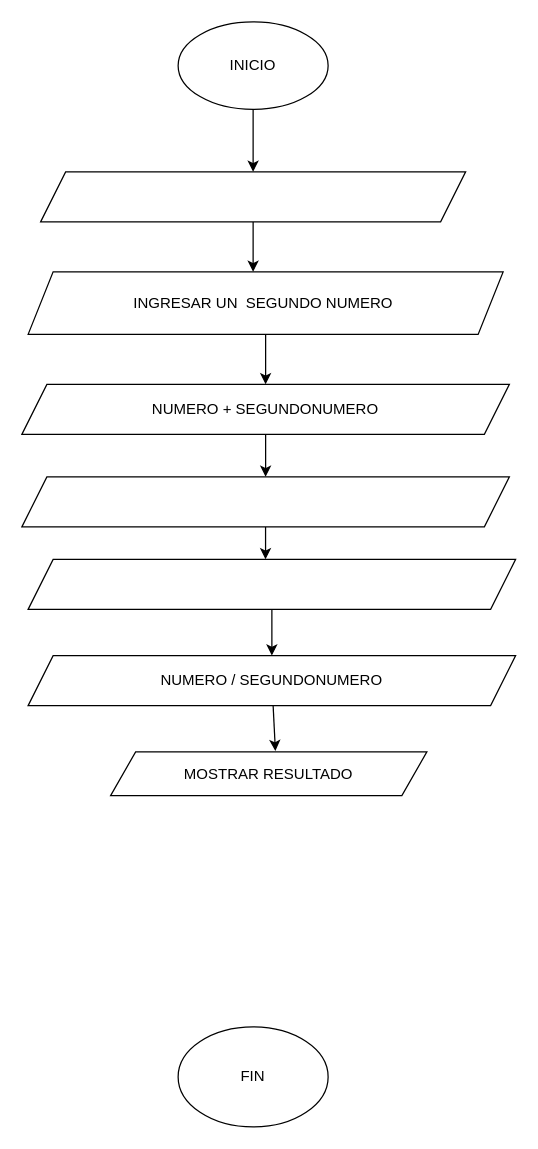
Image size: 538x1149. Some labels were removed from this diagram. The centre of each missing label's shape, as x and y in pixels:
INGRESAR UN NUMERO: pixel 252 196
NUMERO * SEGUNDONUMERO: pixel 271 583
NUMERO - SEGUNDONUMERO: pixel 265 501
